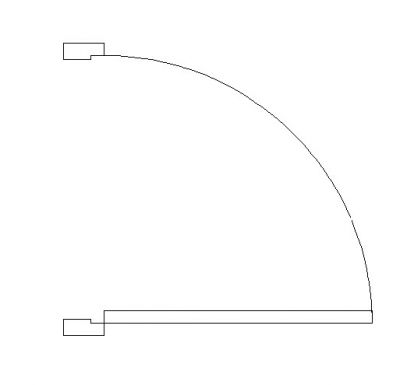door: (106, 43, 376, 329)
